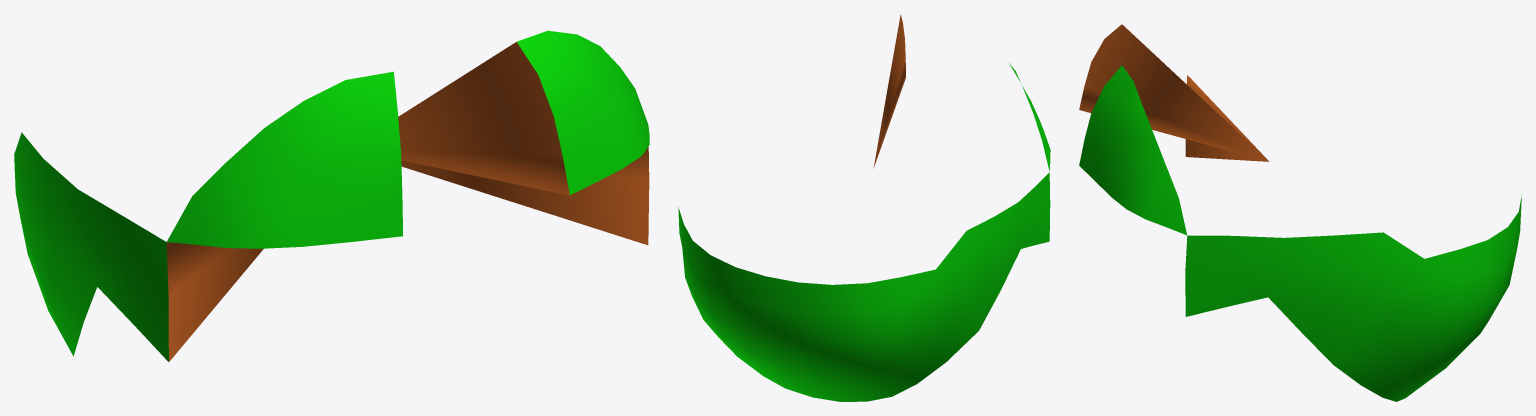
The model's file is Hair2_52.glb.
The picture shows the model from 3 angles, left to right: view 1: azimuth 30°, elevation 25°; view 2: azimuth 150°, elevation 25°; view 3: azimuth 270°, elevation 25°; orthographic projection. The views are drawn at different scales.
Bounding box in the file's own units: 54.17 × 48.54 × 58.74.
